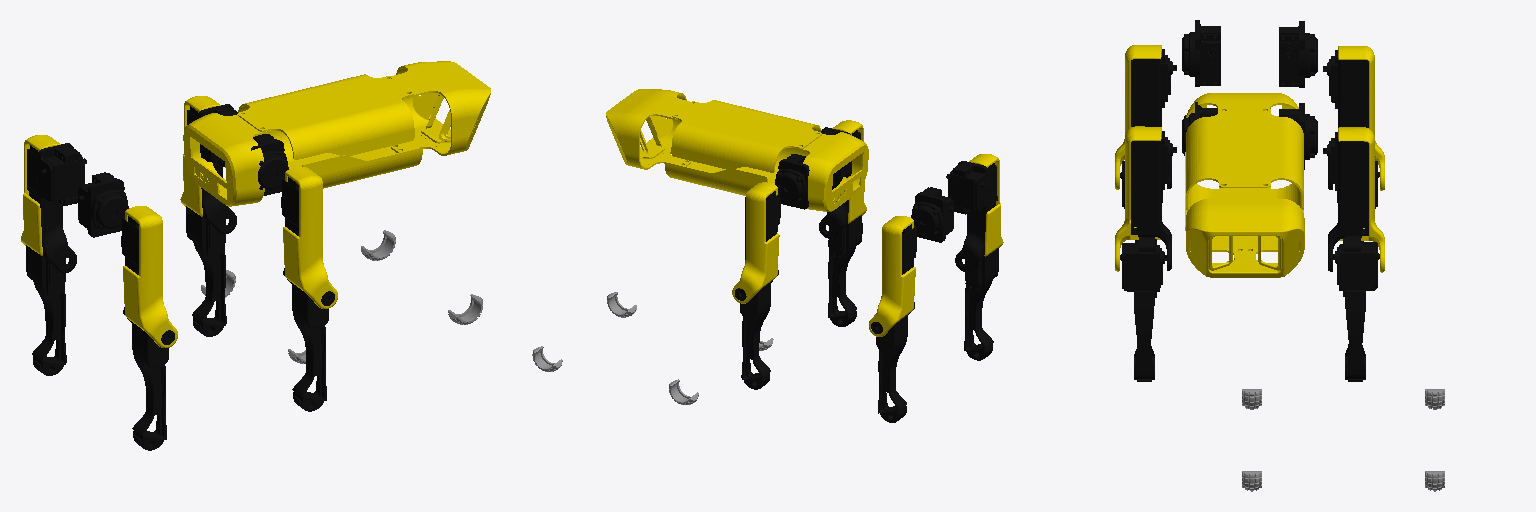
robot.urdf — rex:
<?xml version="1.0" encoding="utf-8"?>
<robot name="rex" xmlns:xacro="http://www.ros.org/wiki/xacro">
  <material name="yellow">
    <color rgba="0.92 0.83 0.0 1"/>
  </material>
  <material name="black">
    <color rgba="0.1 0.1 0.1 1"/>
  </material>
  <material name="grey">
    <color rgba="0.6 0.6 0.6 1"/>
  </material>
  <!-- Params -->
  <!-- Macros -->
  <!-- Robot Body -->
  <link name="base_link">
    <visual>
      <geometry>
        <mesh filename="stl/mainbody.stl" scale="0.001 0.001 0.001"/>
      </geometry>
      <material name="black"/>
      <origin rpy="0 0 0" xyz="-0.045 -0.060 -0.015"/>
    </visual>
    <collision>
      <geometry>
        <box size="0.14 0.11 0.07"/>
      </geometry>
      <origin rpy="0 0 0" xyz="0 0 0"/>
    </collision>
    <inertial>
      <mass value="1.20"/>
      <inertia ixx="100" ixy="0" ixz="0" iyy="100" iyz="0" izz="100"/>
    </inertial>
  </link>

<!--  @TODO add lidar sensor-->
  <!-- Lidar Backpack -->
<!--  <link name="lidar_link">-->
<!--    <visual>-->
<!--      <geometry>-->
<!--        <mesh filename="stl/rplidar_main.STL" scale="0.001 0.001 0.001"/>-->
<!--      </geometry>-->
<!--      <material name="black"/>-->
<!--      <origin rpy="1.57075 0 0" xyz="-0.06425 0.02885 0"/>-->
<!--    </visual>-->
<!--    <collision>-->
<!--      <geometry>-->
<!--        <box size="0.0985 0.0577 0.07"/>-->
<!--      </geometry>-->
<!--      <origin rpy="0 0 0" xyz="0 0 0"/>-->
<!--    </collision>-->
<!--    <inertial>-->
<!--      <mass value="0.50"/>-->
<!--      <inertia ixx="100" ixy="0" ixz="0" iyy="100" iyz="0" izz="100"/>-->
<!--    </inertial>-->
<!--  </link>-->
<!--  <joint name="base_lidar" type="fixed">-->
<!--    <parent link="base_link"/>-->
<!--    <child link="lidar_link"/>-->
<!--    <origin xyz="0 0 0.035"/>-->
<!--  </joint>-->

  <!-- create head & tail -->
  <link name="chassis_front_link">
    <visual>
      <geometry>
        <mesh filename="stl/frontpart.stl" scale="0.001 0.001 0.001"/>
      </geometry>
      <origin rpy="0 0 0" xyz="-0.040 -0.060 -0.0140"/>
      <material name="yellow"/>
    </visual>
    <collision>
      <geometry>
        <box size="0.058 0.11 0.07"/>
      </geometry>
      <origin rpy="0 0 0" xyz="-0.145 0 0"/>
    </collision>
    <inertial>
      <mass value="0.05"/>
      <inertia ixx="100" ixy="0" ixz="0" iyy="100" iyz="0" izz="100"/>
    </inertial>
  </link>
  <joint name="chassis_base_front" type="fixed">
    <parent link="base_link"/>
    <child link="chassis_front_link"/>
  </joint>
  <link name="chassis_rear_link">
    <visual>
      <geometry>
        <mesh filename="stl/backpart.stl" scale="0.001 0.001 0.001"/>
      </geometry>
      <origin rpy="0 0 0" xyz="-0.040 -0.060 -0.0140"/>
      <material name="yellow"/>
    </visual>
    <collision>
      <geometry>
        <box size="0.04 0.11 0.07"/>
      </geometry>
      <origin rpy="0 0 0" xyz="0.135 0 0"/>
    </collision>
    <inertial>
      <mass value="0.05"/>
      <inertia ixx="100" ixy="0" ixz="0" iyy="100" iyz="0" izz="100"/>
    </inertial>
  </link>
  <joint name="chassis_base_rear" type="fixed">
    <parent link="base_link"/>
    <child link="chassis_rear_link"/>
  </joint>

  <!-- create Legs -->
  <link name="front_left_shoulder_link">
    <visual>
      <geometry>
        <mesh filename="stl/lshoulder.stl" scale="0.001 0.001 0.001"/>
      </geometry>
      <origin rpy="0 0 0" xyz="-0.135 -0.02 -0.01"/>
      <material name="black"/>
    </visual>
    <collision>
      <geometry>
        <box size="0.044 0.038 0.07"/>
      </geometry>
      <origin rpy="0 0 0" xyz="0 0 0"/>
    </collision>
    <inertial>
      <mass value="0.10"/>
      <inertia ixx="100" ixy="0" ixz="0" iyy="100" iyz="0" izz="100"/>
    </inertial>
  </link>
  <link name="front_left_leg_link_cover">
    <visual>
      <geometry>
        <mesh filename="stl/larm_cover.stl" scale="0.001 0.001 0.001"/>
      </geometry>
      <origin rpy="0 0 0" xyz="-0.125 0.04 -0.02"/>
      <material name="yellow"/>
    </visual>
  </link>
  <link name="front_left_leg_link">
    <visual>
      <geometry>
        <mesh filename="stl/larm.stl" scale="0.001 0.001 0.001"/>
      </geometry>
      <origin rpy="0 0 0" xyz="-0.125 0.04 -0.02"/>
      <material name="black"/>
    </visual>
    <collision>
      <origin rpy="0.0 0.0 0.0" xyz="0.0 0.0 -0.050"/>
      <geometry>
        <box size="0.028 0.036 0.12"/>
      </geometry>
    </collision>
    <inertial>
      <mass value="0.1"/>
      <inertia ixx="100" ixy="0" ixz="0" iyy="100" iyz="0" izz="100"/>
    </inertial>
  </link>
  <link name="front_left_foot_link">
    <visual>
      <geometry>
        <mesh filename="stl/lfoot.stl" scale="0.001 0.001 0.001"/>
      </geometry>
      <origin rpy="0 0 0" xyz="-0.120 0.04 0.1"/>
      <material name="black"/>
    </visual>
    <collision>
      <geometry>
        <box size="0.026 0.020 0.115"/>
      </geometry>
      <origin rpy="0.0 0.0 0.0" xyz="0.0 0.0 -0.050"/>
    </collision>
    <inertial>
      <mass value="0.1"/>
      <inertia ixx="100" ixy="0" ixz="0" iyy="100" iyz="0" izz="100"/>
    </inertial>
  </link>
  <link name="front_left_toe_link">
    <visual>
      <geometry>
        <mesh filename="stl/foot.stl" scale="0.001 0.001 0.001"/>
      </geometry>
      <origin rpy="0 -0.40010 0" xyz="0 -0.01 0"/>
      <material name="grey"/>
    </visual>
    <collision>
      <geometry>
        <mesh filename="stl/foot.stl" scale="0.001 0.001 0.001"/>
      </geometry>
      <origin rpy="0 -0.40010 0" xyz="0 -0.01 0"/>
      <contact_coefficients mu="100.0"/>
    </collision>
    <inertial>
      <mass value="0.005"/>
      <inertia ixx="100" ixy="0" ixz="0" iyy="100" iyz="0" izz="100"/>
    </inertial>
  </link>
  <joint name="motor_front_left_shoulder" type="revolute">
    <parent link="base_link"/>
    <child link="front_left_shoulder_link"/>
    <axis xyz="1 0 0"/>
    <origin rpy="0 0 0" xyz="-0.093 -0.036 0"/>
    <limit effort="100.0" lower="-1.0" upper="1.0" velocity="0.7"/>
    <dynamics damping="0.0" friction="0.5"/>
  </joint>
  <joint name="motor_front_left_leg" type="revolute">
    <parent link="front_left_shoulder_link"/>
    <child link="front_left_leg_link"/>
    <axis xyz="0 1 0"/>
    <origin rpy="0 0 0" xyz="0 -0.052 0"/>
    <limit effort="100.0" lower="-2.17" upper="0.97" velocity="0.5"/>
    <dynamics damping="0.0" friction="0.0"/>
  </joint>
  <joint name="front_left_leg_cover_joint" type="fixed">
    <parent link="front_left_leg_link"/>
    <child link="front_left_leg_link_cover"/>
    <origin xyz="0 0 0"/>
  </joint>
  <joint name="foot_motor_front_left" type="revolute">
    <parent link="front_left_leg_link"/>
    <child link="front_left_foot_link"/>
    <axis xyz="0 1 0"/>
    <origin rpy="0 0 0" xyz="-0.01 0 -0.12"/>
    <limit effort="100.0" lower="-0.1" upper="2.59" velocity="0.5"/>
    <dynamics damping="0.0" friction="0.5"/>
  </joint>
  <joint name="front_left_toe" type="fixed">
    <parent link="front_left_foot_link"/>
    <child link="front_left_toe_link"/>
    <origin xyz="0 0 -0.115"/>
  </joint>

  <link name="front_right_shoulder_link">
    <visual>
      <geometry>
        <mesh filename="stl/rshoulder.stl" scale="0.001 0.001 0.001"/>
      </geometry>
      <origin rpy="0 0 0" xyz="-0.135 -0.09 -0.01"/>
      <material name="black"/>
    </visual>
    <collision>
      <geometry>
        <box size="0.044 0.038 0.07"/>
      </geometry>
      <origin rpy="0 0 0" xyz="0 0 0"/>
    </collision>
    <inertial>
      <mass value="0.10"/>
      <inertia ixx="100" ixy="0" ixz="0" iyy="100" iyz="0" izz="100"/>
    </inertial>
  </link>
  <link name="front_right_leg_link_cover">
    <visual>
      <geometry>
        <mesh filename="stl/rarm_cover.stl" scale="0.001 0.001 0.001"/>
      </geometry>
      <origin rpy="0 0 0" xyz="-0.125 -0.15 -0.02"/>
      <material name="yellow"/>
    </visual>
  </link>
  <link name="front_right_leg_link">
    <visual>
      <geometry>
        <mesh filename="stl/rarm.stl" scale="0.001 0.001 0.001"/>
      </geometry>
      <origin rpy="0 0 0" xyz="-0.125 -0.15 -0.02"/>
      <material name="black"/>
    </visual>
    <collision>
      <origin rpy="0.0 0.0 0.0" xyz="0.0 0.0 -0.050"/>
      <geometry>
        <box size="0.028 0.036 0.12"/>
      </geometry>
    </collision>
    <inertial>
      <mass value="0.1"/>
      <inertia ixx="100" ixy="0" ixz="0" iyy="100" iyz="0" izz="100"/>
    </inertial>
  </link>
  <link name="front_right_foot_link">
    <visual>
      <geometry>
        <mesh filename="stl/rfoot.stl" scale="0.001 0.001 0.001"/>
      </geometry>
      <origin rpy="0 0 0" xyz="-0.120 -0.15 0.1"/>
      <material name="black"/>
    </visual>
    <collision>
      <geometry>
        <box size="0.026 0.020 0.115"/>
      </geometry>
      <origin rpy="0.0 0.0 0.0" xyz="0.0 0.0 -0.050"/>
    </collision>
    <inertial>
      <mass value="0.1"/>
      <inertia ixx="100" ixy="0" ixz="0" iyy="100" iyz="0" izz="100"/>
    </inertial>
  </link>
  <link name="front_right_toe_link">
    <visual>
      <geometry>
        <mesh filename="stl/foot.stl" scale="0.001 0.001 0.001"/>
      </geometry>
      <origin rpy="0 -0.40010 0" xyz="0 -0.01 0"/>
      <material name="grey"/>
    </visual>
    <collision>
      <geometry>
        <mesh filename="stl/foot.stl" scale="0.001 0.001 0.001"/>
      </geometry>
      <origin rpy="0 -0.40010 0" xyz="0 -0.01 0"/>
      <contact_coefficients mu="100.0"/>
    </collision>
    <inertial>
      <mass value="0.005"/>
      <inertia ixx="100" ixy="0" ixz="0" iyy="100" iyz="0" izz="100"/>
    </inertial>
  </link>
  <joint name="motor_front_right_shoulder" type="revolute">
    <parent link="base_link"/>
    <child link="front_right_shoulder_link"/>
    <axis xyz="1 0 0"/>
    <origin rpy="0 0 0" xyz="-0.093 0.036 0"/>
    <limit effort="100.0" lower="-1.0" upper="1.0" velocity="0.7"/>
    <dynamics damping="0.0" friction="0.5"/>
  </joint>
  <joint name="motor_front_right_leg" type="revolute">
    <parent link="front_right_shoulder_link"/>
    <child link="front_right_leg_link"/>
    <axis xyz="0 1 0"/>
    <origin rpy="0 0 0" xyz="0 0.052 0"/>
    <limit effort="100.0" lower="-2.17" upper="0.97" velocity="0.5"/>
    <dynamics damping="0.0" friction="0.0"/>
  </joint>
  <joint name="front_right_leg_cover_joint" type="fixed">
    <parent link="front_right_leg_link"/>
    <child link="front_right_leg_link_cover"/>
    <origin xyz="0 0 0"/>
  </joint>
  <joint name="foot_motor_front_right" type="revolute">
    <parent link="front_right_leg_link"/>
    <child link="front_right_foot_link"/>
    <axis xyz="0 1 0"/>
    <origin rpy="0 0 0" xyz="-0.01 0 -0.12"/>
    <limit effort="100.0" lower="-0.1" upper="2.59" velocity="0.5"/>
    <dynamics damping="0.0" friction="0.5"/>
  </joint>
  <joint name="front_right_toe" type="fixed">
    <parent link="front_right_foot_link"/>
    <child link="front_right_toe_link"/>
    <origin xyz="0 0 -0.115"/>
  </joint>

  <link name="rear_left_shoulder_link">
    <visual>
      <geometry>
        <mesh filename="stl/lshoulder.stl" scale="0.001 0.001 0.001"/>
      </geometry>
      <origin rpy="0 0 0" xyz="-0.135 -0.02 -0.01"/>
      <material name="black"/>
    </visual>
    <collision>
      <geometry>
        <box size="0.044 0.038 0.07"/>
      </geometry>
      <origin rpy="0 0 0" xyz="0 0 0"/>
    </collision>
    <inertial>
      <mass value="0.10"/>
      <inertia ixx="100" ixy="0" ixz="0" iyy="100" iyz="0" izz="100"/>
    </inertial>
  </link>
  <link name="rear_left_leg_link_cover">
    <visual>
      <geometry>
        <mesh filename="stl/larm_cover.stl" scale="0.001 0.001 0.001"/>
      </geometry>
      <origin rpy="0 0 0" xyz="-0.125 0.04 -0.02"/>
      <material name="yellow"/>
    </visual>
  </link>
  <link name="rear_left_leg_link">
    <visual>
      <geometry>
        <mesh filename="stl/larm.stl" scale="0.001 0.001 0.001"/>
      </geometry>
      <origin rpy="0 0 0" xyz="-0.125 0.04 -0.02"/>
      <material name="black"/>
    </visual>
    <collision>
      <origin rpy="0.0 0.0 0.0" xyz="0.0 0.0 -0.050"/>
      <geometry>
        <box size="0.028 0.036 0.12"/>
      </geometry>
    </collision>
    <inertial>
      <mass value="0.10"/>
      <inertia ixx="100" ixy="0" ixz="0" iyy="100" iyz="0" izz="100"/>
    </inertial>
  </link>
  <link name="rear_left_foot_link">
    <visual>
      <geometry>
        <mesh filename="stl/lfoot.stl" scale="0.001 0.001 0.001"/>
      </geometry>
      <origin rpy="0 0 0" xyz="-0.120 0.04 0.1"/>
      <material name="black"/>
    </visual>
    <collision>
      <geometry>
        <box size="0.026 0.020 0.115"/>
      </geometry>
      <origin rpy="0.0 0.0 0.0" xyz="0.0 0.0 -0.050"/>
    </collision>
    <inertial>
      <mass value="0.1"/>
      <inertia ixx="100" ixy="0" ixz="0" iyy="100" iyz="0" izz="100"/>
    </inertial>
  </link>
  <link name="rear_left_toe_link">
    <visual>
      <geometry>
        <mesh filename="stl/foot.stl" scale="0.001 0.001 0.001"/>
      </geometry>
      <origin rpy="0 -0.40010 0" xyz="0 -0.01 0"/>
      <material name="grey"/>
    </visual>
    <collision>
      <geometry>
        <mesh filename="stl/foot.stl" scale="0.001 0.001 0.001"/>
      </geometry>
      <origin rpy="0 -0.40010 0" xyz="0 -0.01 0"/>
      <contact_coefficients mu="100.0"/>
    </collision>
    <inertial>
      <mass value="0.005"/>
      <inertia ixx="100" ixy="0" ixz="0" iyy="100" iyz="0" izz="100"/>
    </inertial>
  </link>
  <joint name="motor_rear_left_shoulder" type="revolute">
    <parent link="base_link"/>
    <child link="rear_left_shoulder_link"/>
    <axis xyz="1 0 0"/>
    <origin rpy="0 0 0" xyz="0.093 -0.036 0"/>
    <limit effort="100.0" lower="-1.0" upper="1.0" velocity="0.7"/>
    <dynamics damping="0.0" friction="0.5"/>
  </joint>
  <joint name="motor_rear_left_leg" type="revolute">
    <parent link="rear_left_shoulder_link"/>
    <child link="rear_left_leg_link"/>
    <axis xyz="0 1 0"/>
    <origin rpy="0 0 0" xyz="0 -0.052 0"/>
    <limit effort="100.0" lower="-2.17" upper="0.97" velocity="0.5"/>
    <dynamics damping="0.0" friction="0.0"/>
  </joint>
  <joint name="rear_left_leg_cover_joint" type="fixed">
    <parent link="rear_left_leg_link"/>
    <child link="rear_left_leg_link_cover"/>
    <origin xyz="0 0 0"/>
  </joint>
  <joint name="foot_motor_rear_left" type="revolute">
    <parent link="rear_left_leg_link"/>
    <child link="rear_left_foot_link"/>
    <axis xyz="0 1 0"/>
    <origin rpy="0 0 0" xyz="-0.01 0 -0.12"/>
    <limit effort="100.0" lower="-0.1" upper="2.59" velocity="0.5"/>
    <dynamics damping="0.0" friction="0.5"/>
  </joint>
  <joint name="rear_left_toe" type="fixed">
    <parent link="rear_left_foot_link"/>
    <child link="rear_left_toe_link"/>
    <origin xyz="0 0 -0.115"/>
  </joint>

  <link name="rear_right_shoulder_link">
    <visual>
      <geometry>
        <mesh filename="stl/rshoulder.stl" scale="0.001 0.001 0.001"/>
      </geometry>
      <origin rpy="0 0 0" xyz="-0.135 -0.09 -0.01"/>
      <material name="black"/>
    </visual>
    <collision>
      <geometry>
        <box size="0.044 0.038 0.07"/>
      </geometry>
      <origin rpy="0 0 0" xyz="0 0 0"/>
    </collision>
    <inertial>
      <mass value="0.10"/>
      <inertia ixx="100" ixy="0" ixz="0" iyy="100" iyz="0" izz="100"/>
    </inertial>
  </link>
  <link name="rear_right_leg_link_cover">
    <visual>
      <geometry>
        <mesh filename="stl/rarm_cover.stl" scale="0.001 0.001 0.001"/>
      </geometry>
      <origin rpy="0 0 0" xyz="-0.125 -0.15 -0.02"/>
      <material name="yellow"/>
    </visual>
  </link>
  <link name="rear_right_leg_link">
    <visual>
      <geometry>
        <mesh filename="stl/rarm.stl" scale="0.001 0.001 0.001"/>
      </geometry>
      <origin rpy="0 0 0" xyz="-0.125 -0.15 -0.02"/>
      <material name="black"/>
    </visual>
    <collision>
      <origin rpy="0.0 0.0 0.0" xyz="0.0 0.0 -0.050"/>
      <geometry>
        <box size="0.028 0.036 0.12"/>
      </geometry>
    </collision>
    <inertial>
      <mass value="0.10"/>
      <inertia ixx="100" ixy="0" ixz="0" iyy="100" iyz="0" izz="100"/>
    </inertial>
  </link>
  <link name="rear_right_foot_link">
    <visual>
      <geometry>
        <mesh filename="stl/rfoot.stl" scale="0.001 0.001 0.001"/>
      </geometry>
      <origin rpy="0 0 0" xyz="-0.120 -0.15 0.1"/>
      <material name="black"/>
    </visual>
    <collision>
      <geometry>
        <box size="0.026 0.020 0.115"/>
      </geometry>
      <origin rpy="0.0 0.0 0.0" xyz="0.0 0.0 -0.050"/>
    </collision>
    <inertial>
      <mass value="0.1"/>
      <inertia ixx="100" ixy="0" ixz="0" iyy="100" iyz="0" izz="100"/>
    </inertial>
  </link>
  <link name="rear_right_toe_link">
    <visual>
      <geometry>
        <mesh filename="stl/foot.stl" scale="0.001 0.001 0.001"/>
      </geometry>
      <origin rpy="0 -0.40010 0" xyz="0 -0.01 0"/>
      <material name="grey"/>
    </visual>
    <collision>
      <geometry>
        <mesh filename="stl/foot.stl" scale="0.001 0.001 0.001"/>
      </geometry>
      <origin rpy="0 -0.40010 0" xyz="0 -0.01 0"/>
      <contact_coefficients mu="100.0"/>
    </collision>
    <inertial>
      <mass value="0.005"/>
      <inertia ixx="100" ixy="0" ixz="0" iyy="100" iyz="0" izz="100"/>
    </inertial>
  </link>
  <joint name="motor_rear_right_shoulder" type="revolute">
    <parent link="base_link"/>
    <child link="rear_right_shoulder_link"/>
    <axis xyz="1 0 0"/>
    <origin rpy="0 0 0" xyz="0.093 0.036 0"/>
    <limit effort="100.0" lower="-1.0" upper="1.0" velocity="0.7"/>
    <dynamics damping="0.0" friction="0.5"/>
  </joint>
  <joint name="motor_rear_right_leg" type="revolute">
    <parent link="rear_right_shoulder_link"/>
    <child link="rear_right_leg_link"/>
    <axis xyz="0 1 0"/>
    <origin rpy="0 0 0" xyz="0 0.052 0"/>
    <limit effort="100.0" lower="-2.17" upper="0.97" velocity="0.5"/>
    <dynamics damping="0.0" friction="0.0"/>
  </joint>
  <joint name="rear_right_leg_cover_joint" type="fixed">
    <parent link="rear_right_leg_link"/>
    <child link="rear_right_leg_link_cover"/>
    <origin xyz="0 0 0"/>
  </joint>
  <joint name="foot_motor_rear_right" type="revolute">
    <parent link="rear_right_leg_link"/>
    <child link="rear_right_foot_link"/>
    <axis xyz="0 1 0"/>
    <origin rpy="0 0 0" xyz="-0.01 0 -0.12"/>
    <limit effort="100.0" lower="-0.1" upper="2.59" velocity="0.5"/>
    <dynamics damping="0.0" friction="0.5"/>
  </joint>
  <joint name="rear_right_toe" type="fixed">
    <parent link="rear_right_foot_link"/>
    <child link="rear_right_toe_link"/>
    <origin xyz="0 0 -0.115"/>
  </joint>
</robot>

--- What the picture shows (computed from the rendered views, not written in the file) ---
The picture shows the robot from 3 angles, left to right: view 1: azimuth 30°, elevation 25°; view 2: azimuth 150°, elevation 25°; view 3: azimuth 270°, elevation 25°; orthographic projection.
Model rex with 23 links and 22 joints (12 revolute, 10 fixed), rooted at base_link, posed all joints at 0.
Links seen in each view (by area): view 1: chassis_front_link, chassis_rear_link, front_right_leg_link_cover, rear_right_leg_link_cover, front_left_foot_link, rear_left_foot_link, front_right_foot_link, rear_right_foot_link, front_right_shoulder_link, front_left_shoulder_link, front_left_leg_link, front_left_leg_link_cover (+8 smaller); view 2: chassis_front_link, chassis_rear_link, rear_left_leg_link_cover, front_left_leg_link_cover, rear_right_foot_link, front_right_foot_link, front_left_foot_link, rear_left_foot_link, front_left_shoulder_link, front_right_shoulder_link, front_right_leg_link, rear_left_shoulder_link (+5 smaller); view 3: chassis_front_link, rear_left_foot_link, rear_right_foot_link, rear_left_leg_link, rear_right_leg_link, chassis_rear_link, front_right_leg_link, front_left_leg_link, front_left_shoulder_link, front_right_shoulder_link, rear_right_leg_link_cover, rear_left_leg_link_cover (+3 smaller).
Boxes of the visible links, left/top/right/bottom form: chassis_front_link: left=238, top=61, right=490, bottom=159; chassis_rear_link: left=183, top=113, right=422, bottom=206; front_right_leg_link_cover: left=123, top=206, right=177, bottom=347; rear_right_leg_link_cover: left=283, top=167, right=337, bottom=308; front_left_foot_link: left=26, top=245, right=66, bottom=375; rear_left_foot_link: left=186, top=206, right=226, bottom=336; front_right_foot_link: left=132, top=322, right=168, bottom=450; rear_right_foot_link: left=292, top=283, right=328, bottom=411; front_right_shoulder_link: left=78, top=172, right=128, bottom=237; front_left_shoulder_link: left=36, top=143, right=86, bottom=205; front_left_leg_link: left=27, top=145, right=76, bottom=272; front_left_leg_link_cover: left=21, top=135, right=60, bottom=255; chassis_front_link: left=606, top=89, right=821, bottom=172; chassis_rear_link: left=665, top=132, right=868, bottom=211; rear_left_leg_link_cover: left=732, top=182, right=779, bottom=303; front_left_leg_link_cover: left=869, top=216, right=915, bottom=336; rear_right_foot_link: left=828, top=215, right=862, bottom=326; front_right_foot_link: left=964, top=248, right=998, bottom=360; front_left_foot_link: left=876, top=315, right=907, bottom=422; rear_left_foot_link: left=740, top=282, right=770, bottom=389; front_left_shoulder_link: left=911, top=187, right=953, bottom=242; front_right_shoulder_link: left=946, top=161, right=989, bottom=214; front_right_leg_link: left=955, top=163, right=997, bottom=271; rear_left_shoulder_link: left=775, top=154, right=809, bottom=209; chassis_front_link: left=1186, top=108, right=1304, bottom=277; rear_left_foot_link: left=1333, top=236, right=1379, bottom=381; rear_right_foot_link: left=1120, top=237, right=1166, bottom=381; rear_left_leg_link: left=1323, top=132, right=1368, bottom=271; rear_right_leg_link: left=1131, top=131, right=1176, bottom=270; chassis_rear_link: left=1185, top=93, right=1303, bottom=259; front_right_leg_link: left=1131, top=49, right=1176, bottom=188; front_left_leg_link: left=1323, top=50, right=1368, bottom=189; front_left_shoulder_link: left=1279, top=21, right=1317, bottom=87; front_right_shoulder_link: left=1182, top=20, right=1220, bottom=86; rear_right_leg_link_cover: left=1115, top=126, right=1161, bottom=271; rear_left_leg_link_cover: left=1338, top=127, right=1384, bottom=272.
Size in the robot's own frame: 0.4913 by 0.3182 by 0.2859 metres.
Meshes: 12 distinct files referenced, 22 mesh visuals loaded (11 binary STL); not drawn: 1 (reference not matched to a file when rendering).
